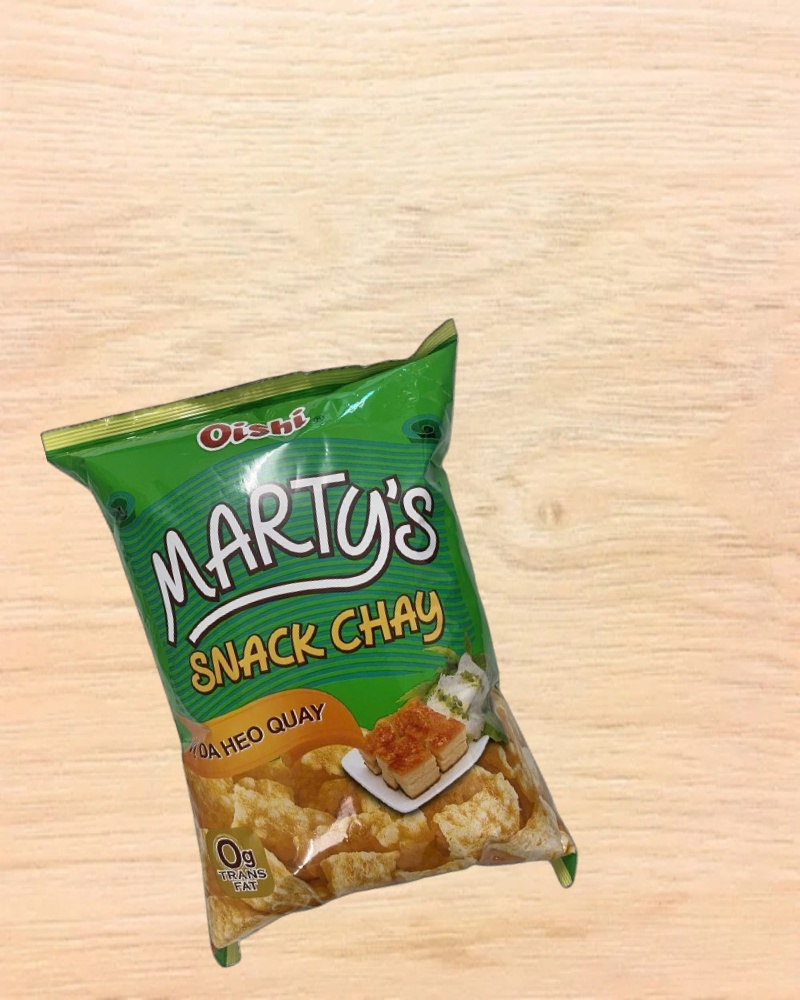Snack chay: (40, 318, 604, 989)
